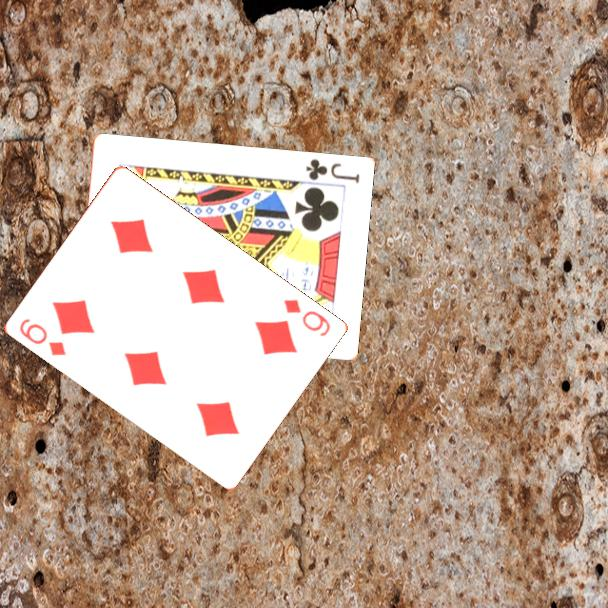c11: (302, 156, 362, 186)
d06: (279, 296, 333, 340), (15, 315, 68, 359)
